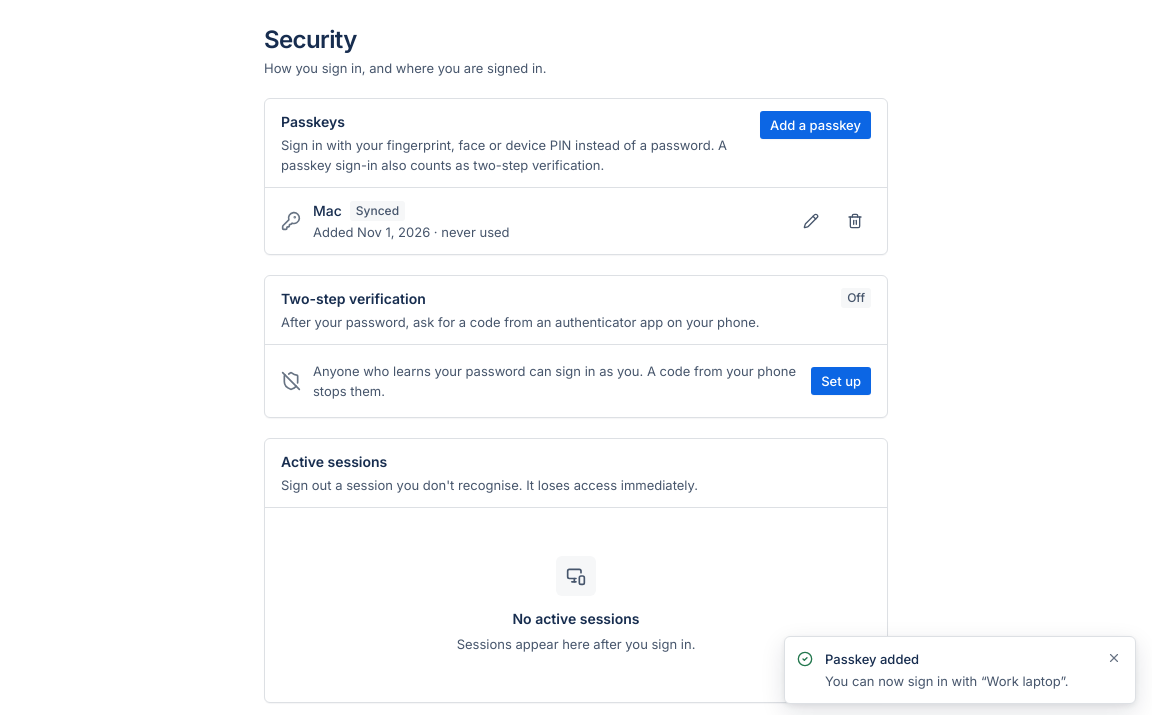
Test: passkey settings › removes a passkey after the password
The image size is (1152, 715).
Expected: the text "Synced" is shown, [350,201,405,221]
Click the button named "Remove Mac". click: (855,221)
box: [839,205,871,237]
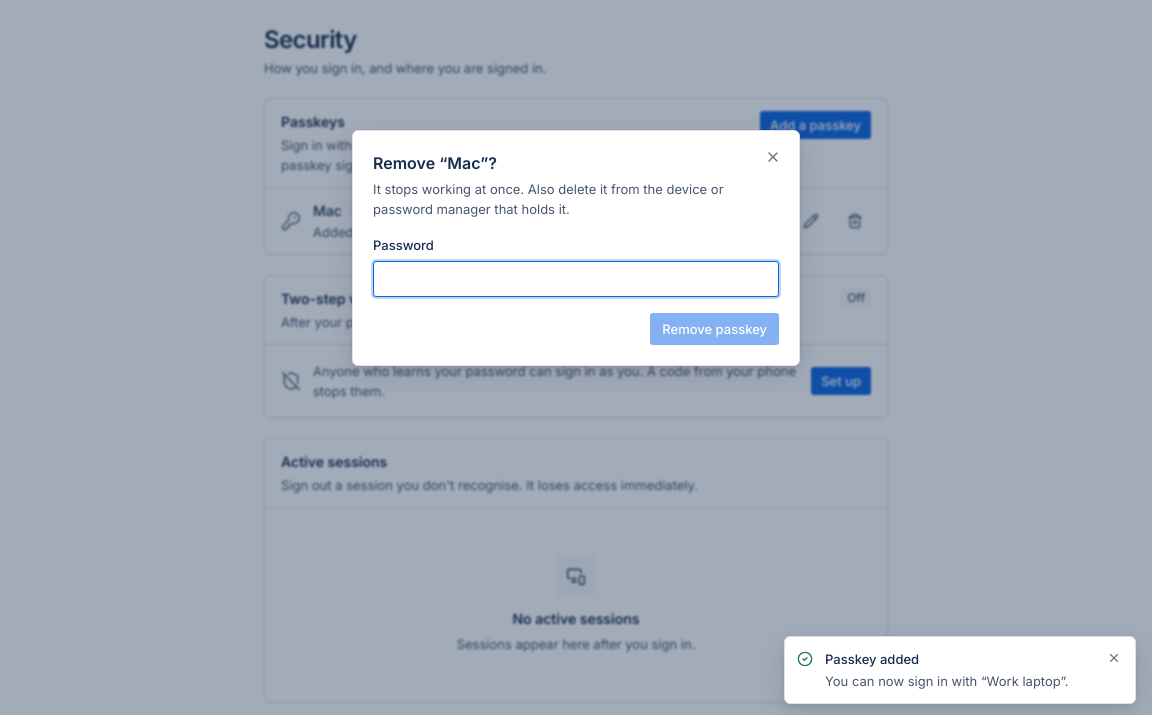
Type "right-password" into the password field labelled "Password". click: (576,279)
box: [373,261,779,297]
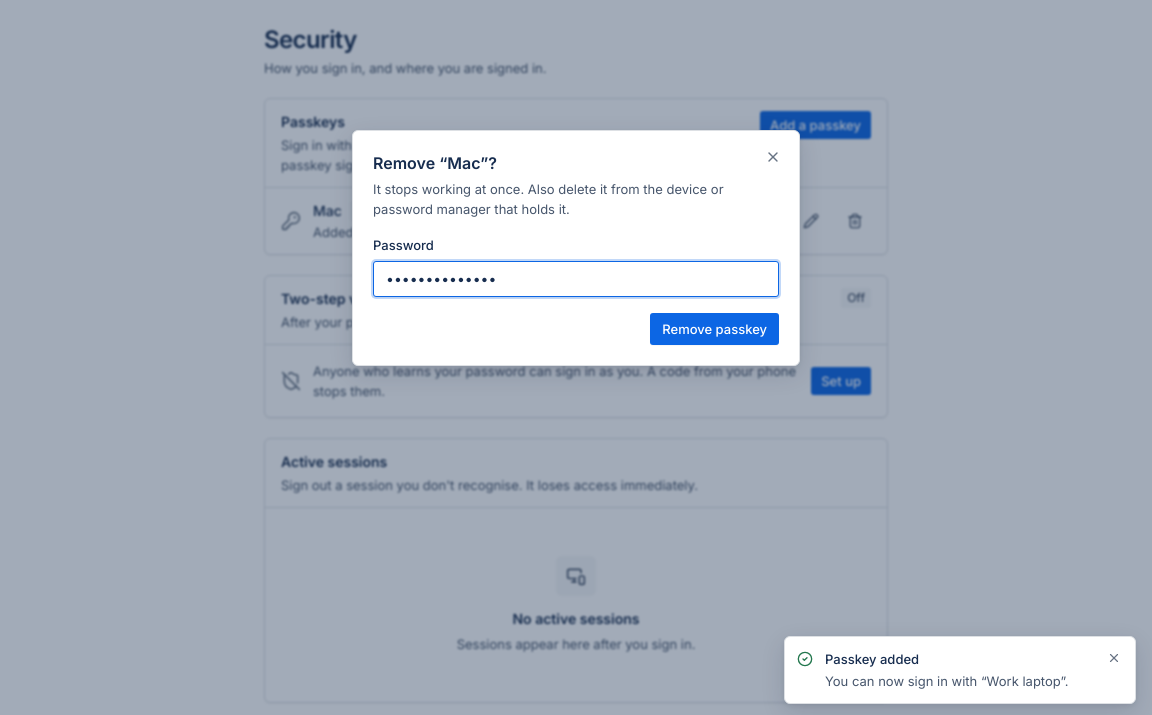
Click the button "Remove passkey". click: (715,329)
box: [650,313,779,345]
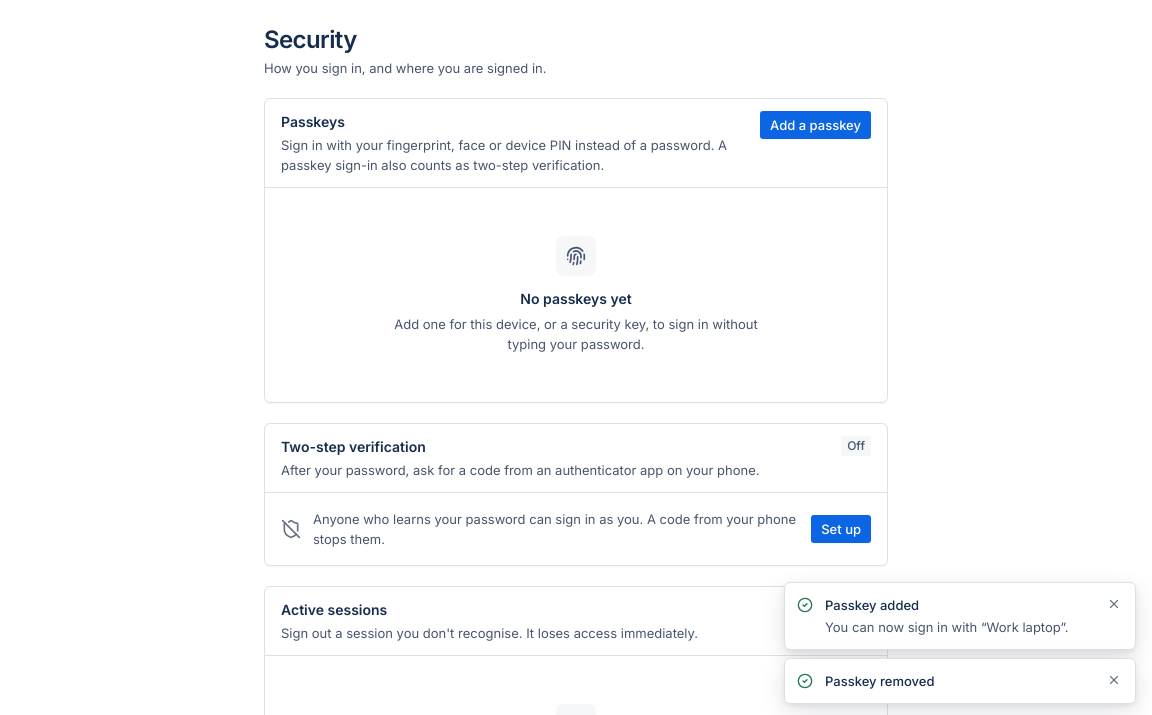
Expected: the heading "No passkeys yet" is shown, [520,288,632,310]
